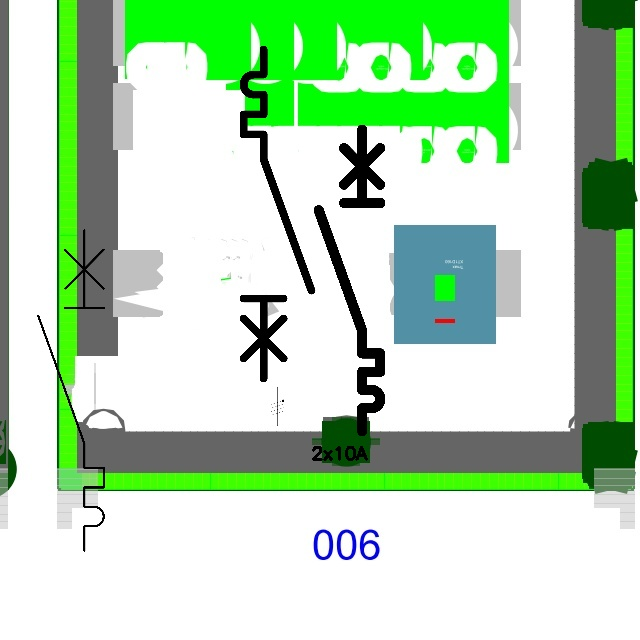interruptor_termomagnetico: (235, 41, 319, 387), (30, 222, 112, 559), (311, 122, 388, 439)
